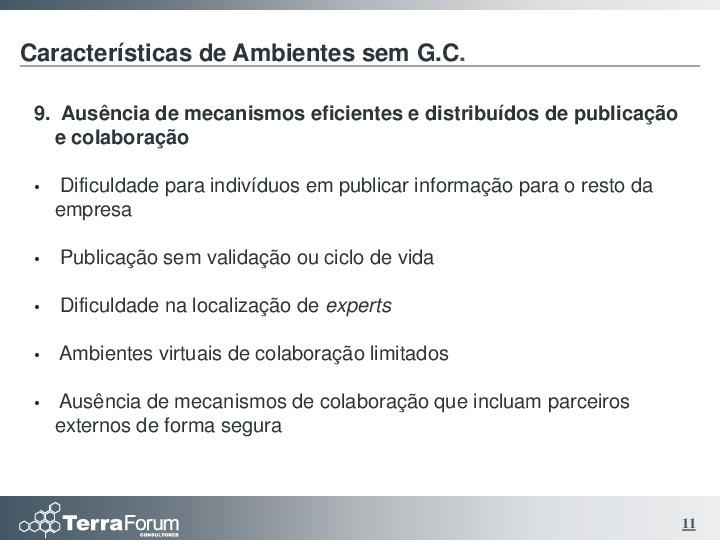paragraph: (20, 168, 692, 457)
subtitle: (28, 94, 684, 152)
title: (16, 32, 472, 71)
